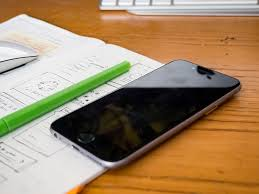mobil: (48, 57, 242, 169)
